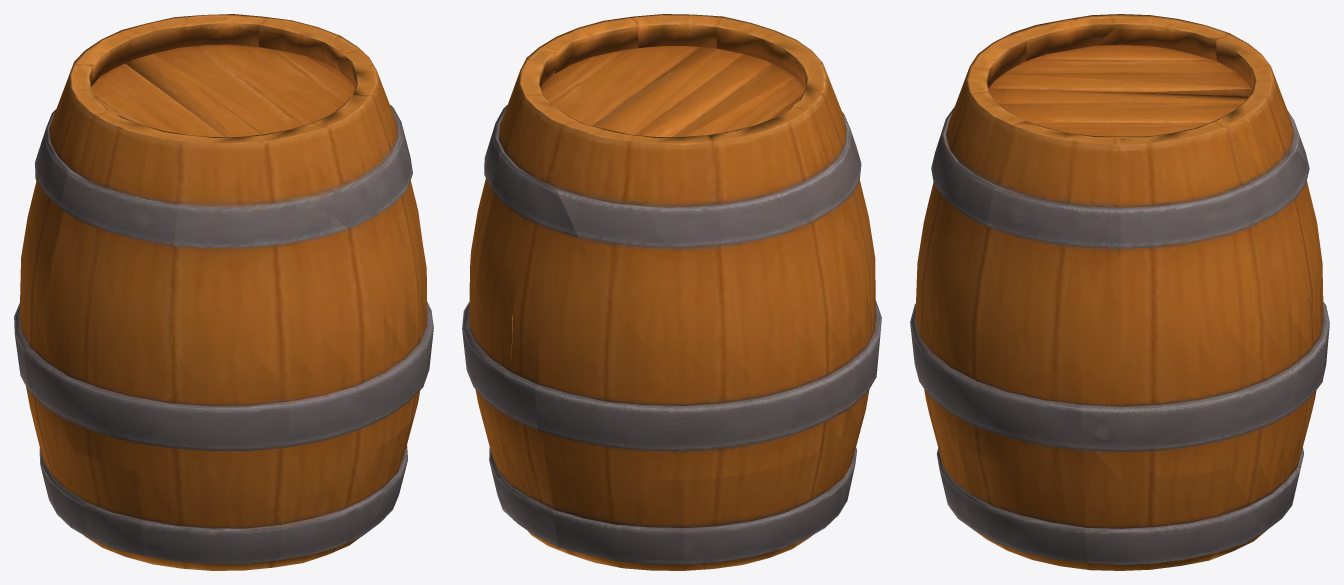
File: barrel.glb
3 views of the same model, side by side, from view 1: azimuth 30°, elevation 25°; view 2: azimuth 150°, elevation 25°; view 3: azimuth 270°, elevation 25° (orthographic).
Size of the model in its own units: 0.8945 by 1 by 0.8926.
Materials: 1 (1 with a texture image).
